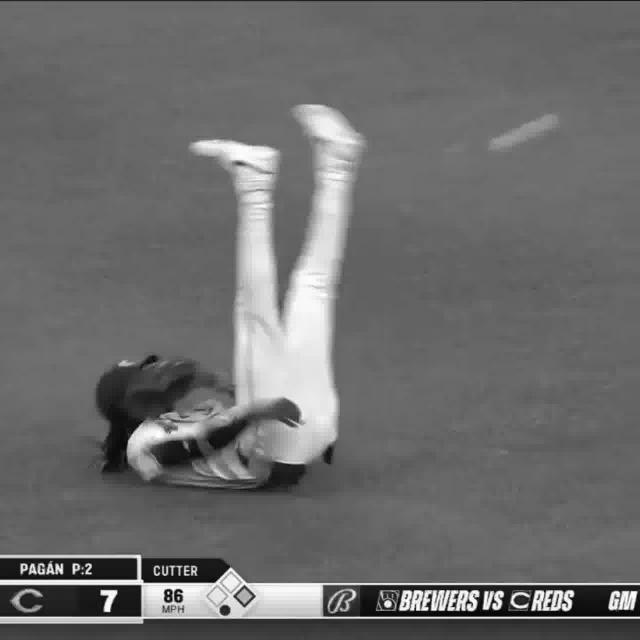baseball: (495, 110, 561, 155)
baseball_glove: (126, 348, 198, 411)
shoe: (294, 100, 366, 160), (194, 139, 277, 183)
